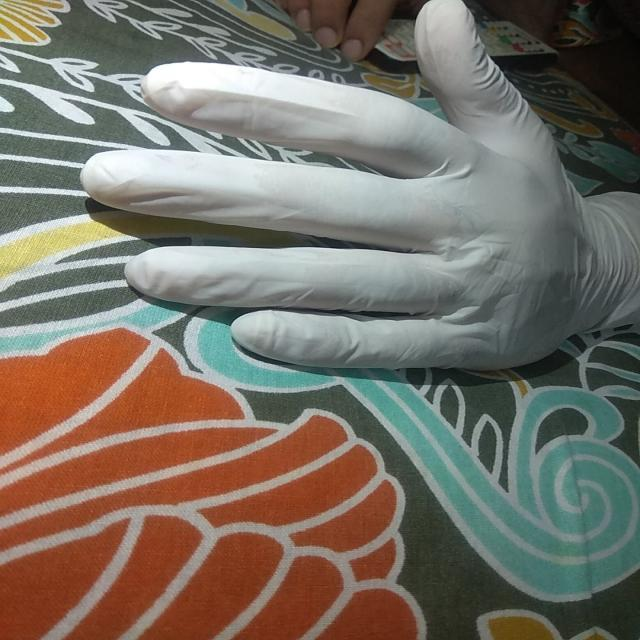glove_hand: (70, 0, 638, 382)
